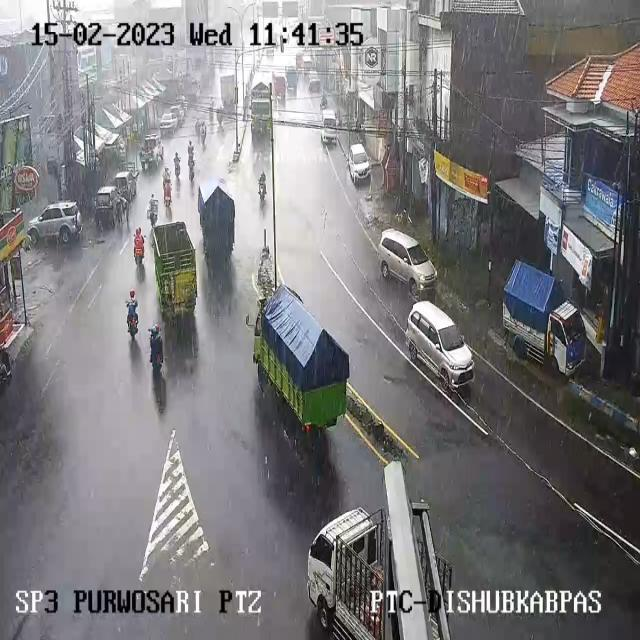Car: (406, 302, 477, 400), (376, 228, 436, 297), (26, 202, 81, 246), (94, 186, 126, 228), (346, 143, 370, 183), (112, 170, 138, 202), (320, 110, 338, 142), (159, 112, 179, 133), (170, 104, 186, 126), (144, 134, 161, 152), (308, 74, 321, 95), (301, 53, 312, 71), (264, 47, 275, 61), (296, 53, 304, 70)
Motorbike: (126, 284, 141, 347), (131, 224, 148, 268), (148, 326, 164, 368), (146, 197, 158, 226), (163, 168, 172, 197), (258, 172, 267, 198), (173, 153, 181, 176), (209, 99, 216, 121), (156, 141, 164, 159), (216, 109, 224, 127), (188, 142, 195, 162), (140, 149, 148, 166), (320, 92, 328, 108), (201, 124, 207, 144), (188, 154, 195, 170), (195, 120, 202, 136)
Truck: (254, 284, 351, 434), (503, 261, 586, 377), (307, 510, 380, 630), (151, 222, 198, 319), (198, 177, 235, 257), (250, 92, 272, 134), (220, 73, 236, 108), (272, 74, 287, 100), (286, 68, 298, 93)
